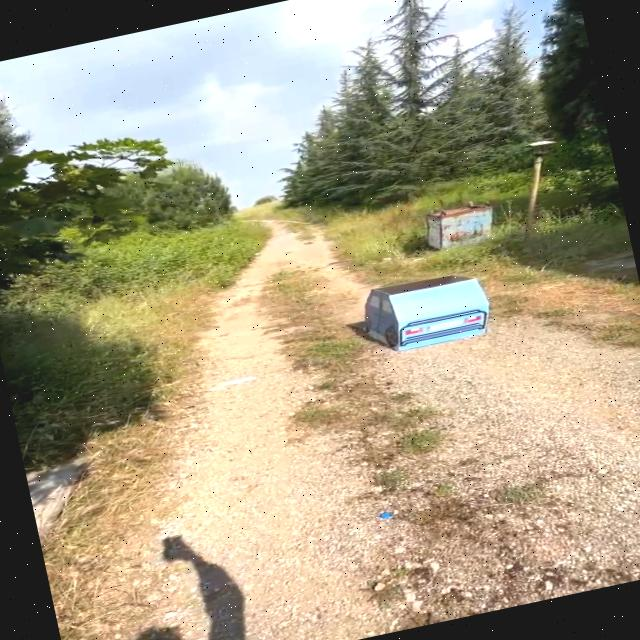blue_car: (341, 255, 515, 378)
